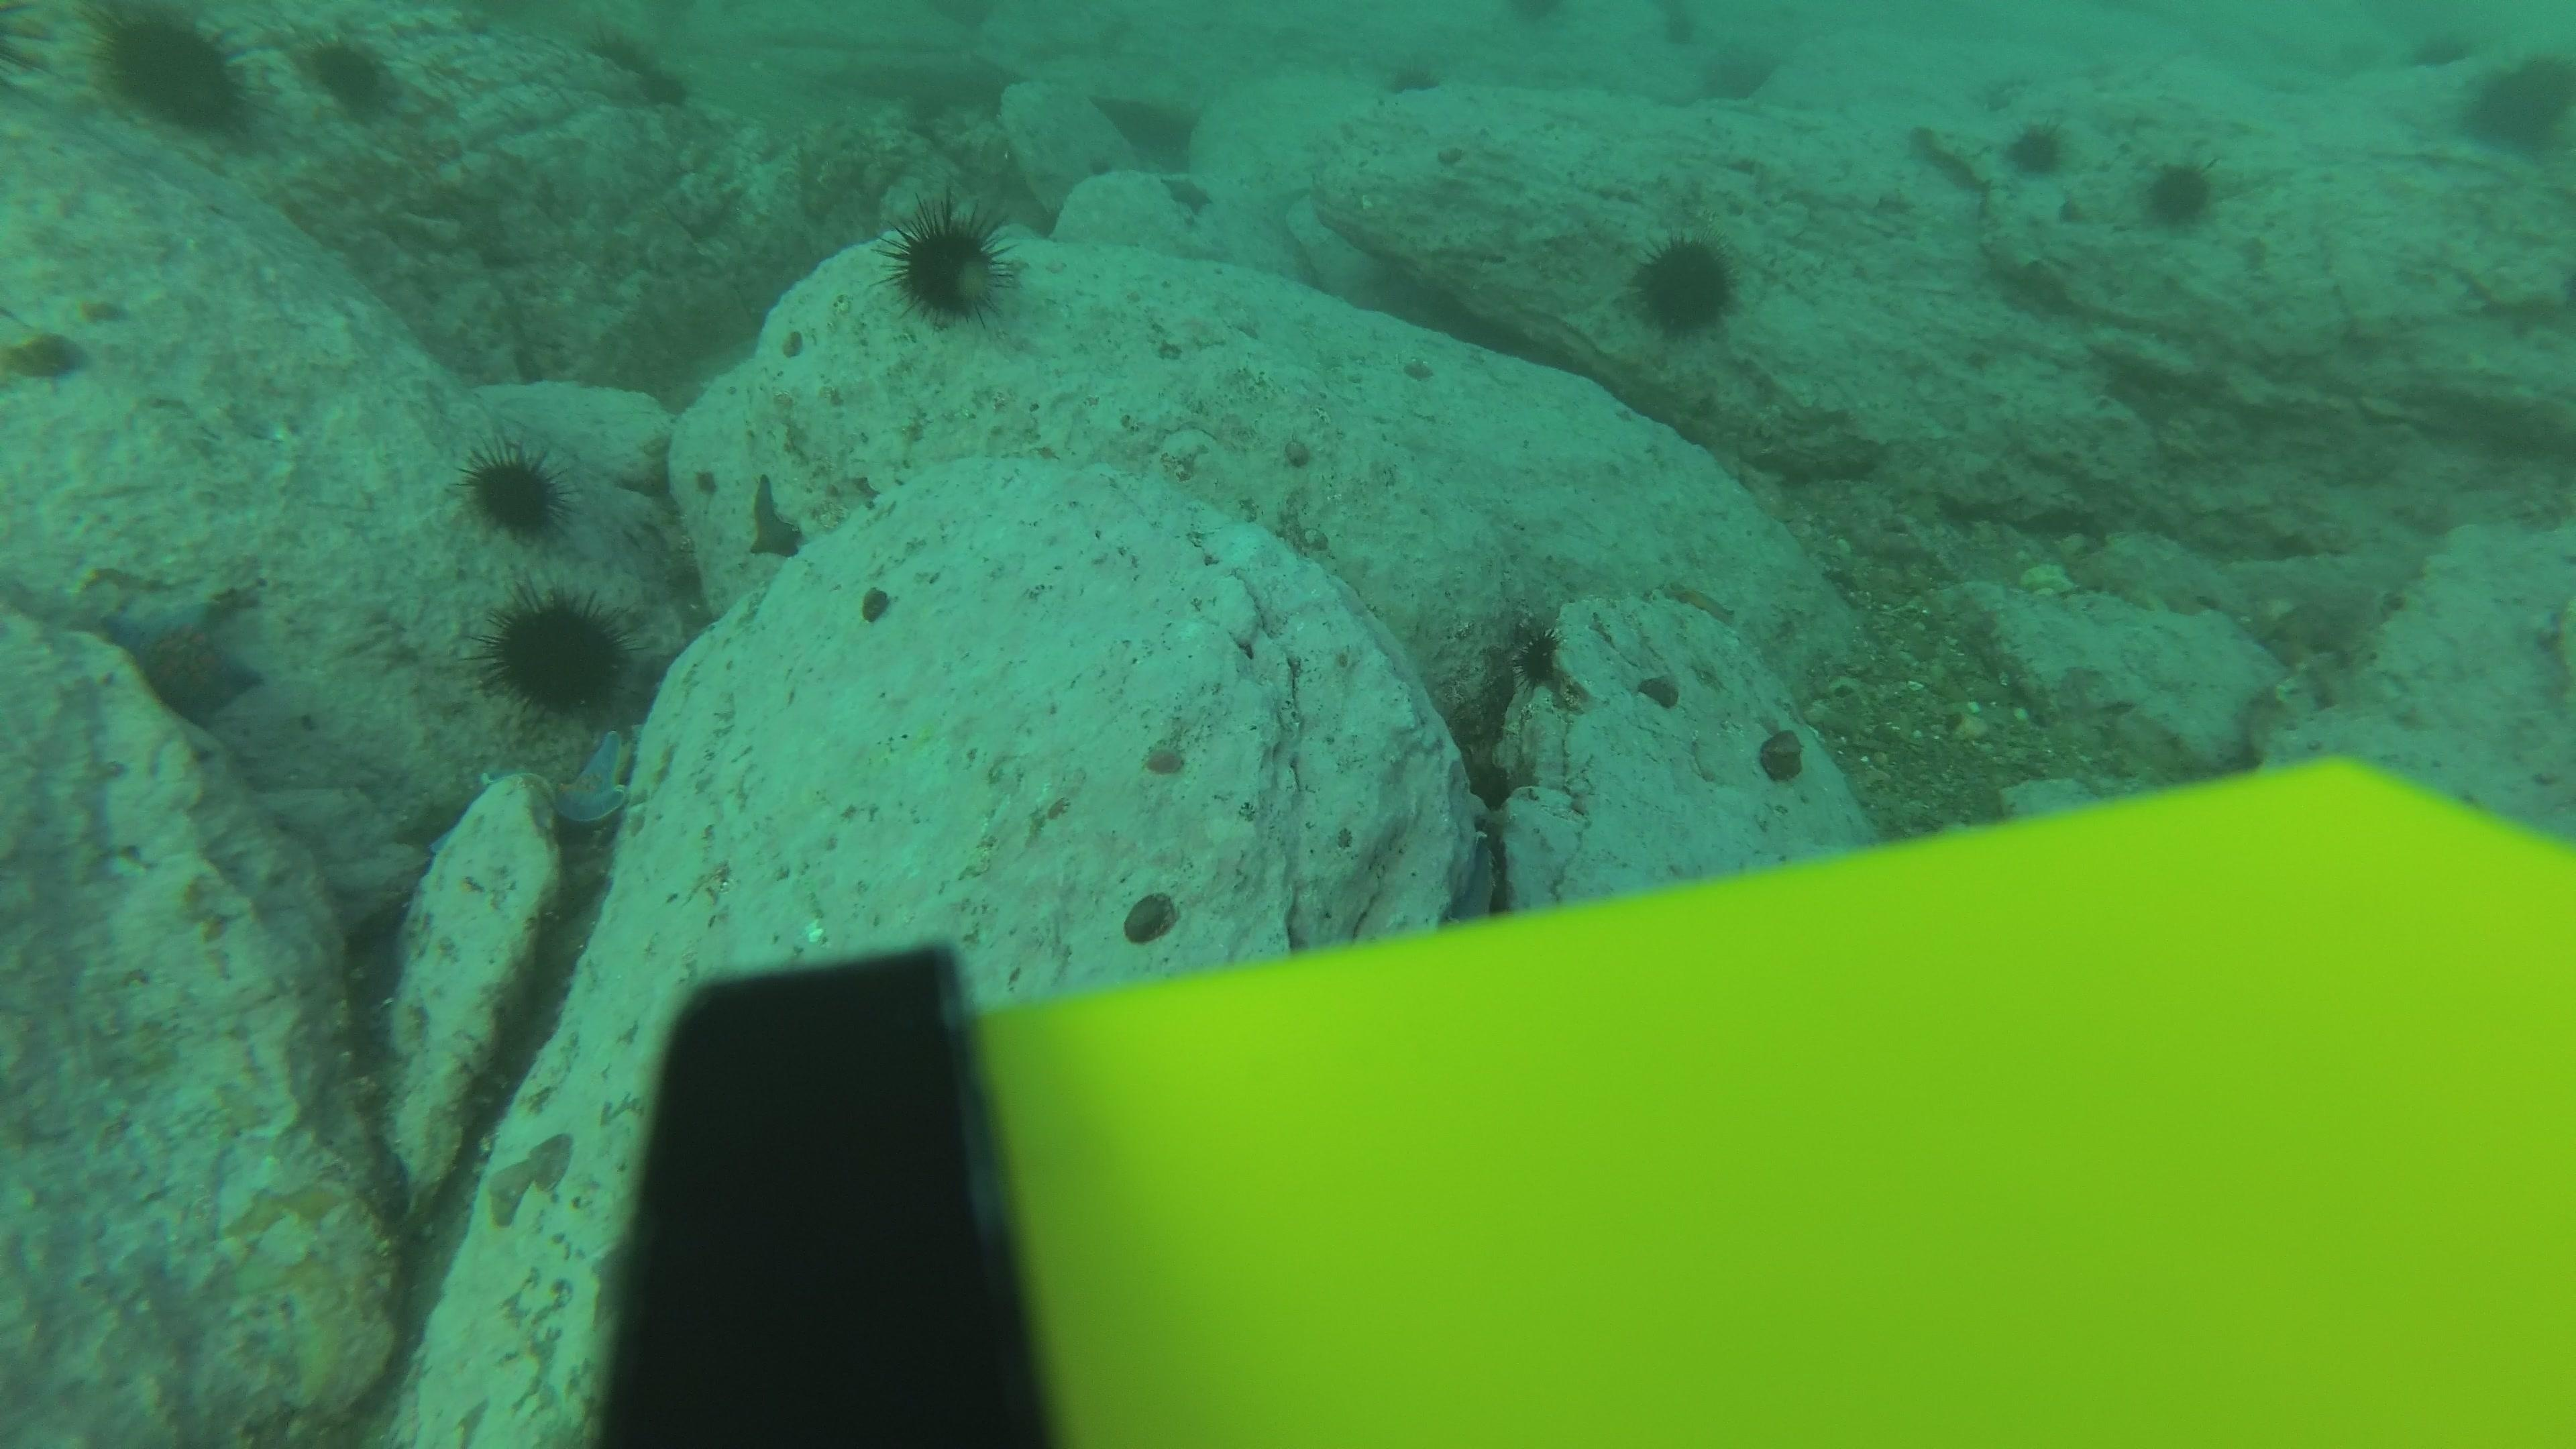echinus: (85, 7, 264, 143), (483, 586, 630, 718), (883, 200, 1017, 327), (2457, 46, 2572, 161), (1626, 230, 1743, 340), (456, 441, 573, 543), (297, 30, 403, 122), (2139, 150, 2224, 232), (625, 60, 709, 122), (570, 25, 655, 87), (2003, 115, 2070, 179), (1376, 44, 1444, 108), (1507, 623, 1575, 686), (1468, 740, 1536, 803)
starfish: (97, 577, 272, 731), (545, 722, 639, 833), (741, 472, 810, 564), (1654, 571, 1743, 626), (1159, 172, 1215, 219)
